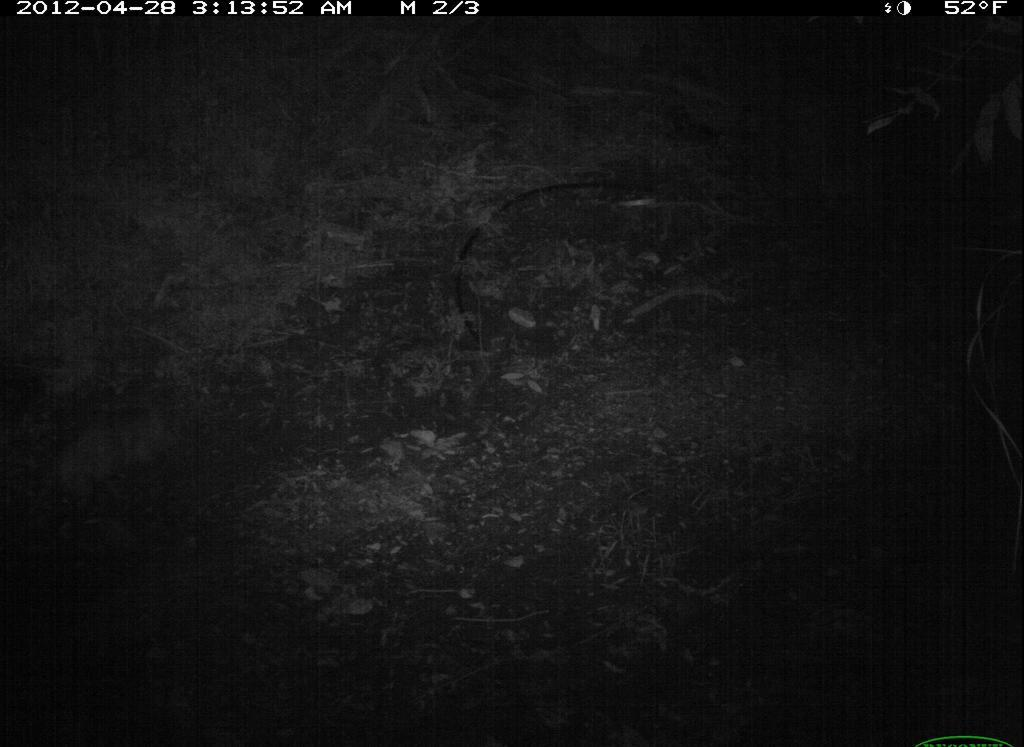opossum: (21, 380, 186, 521)
